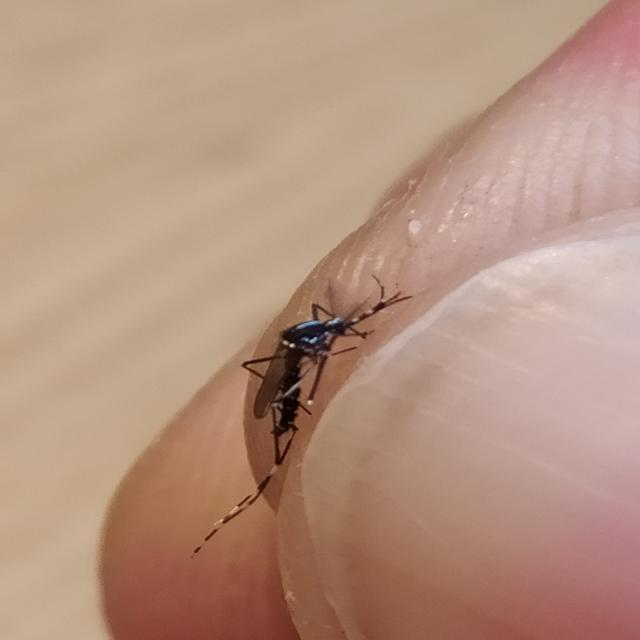albopictus: (190, 270, 420, 542)
